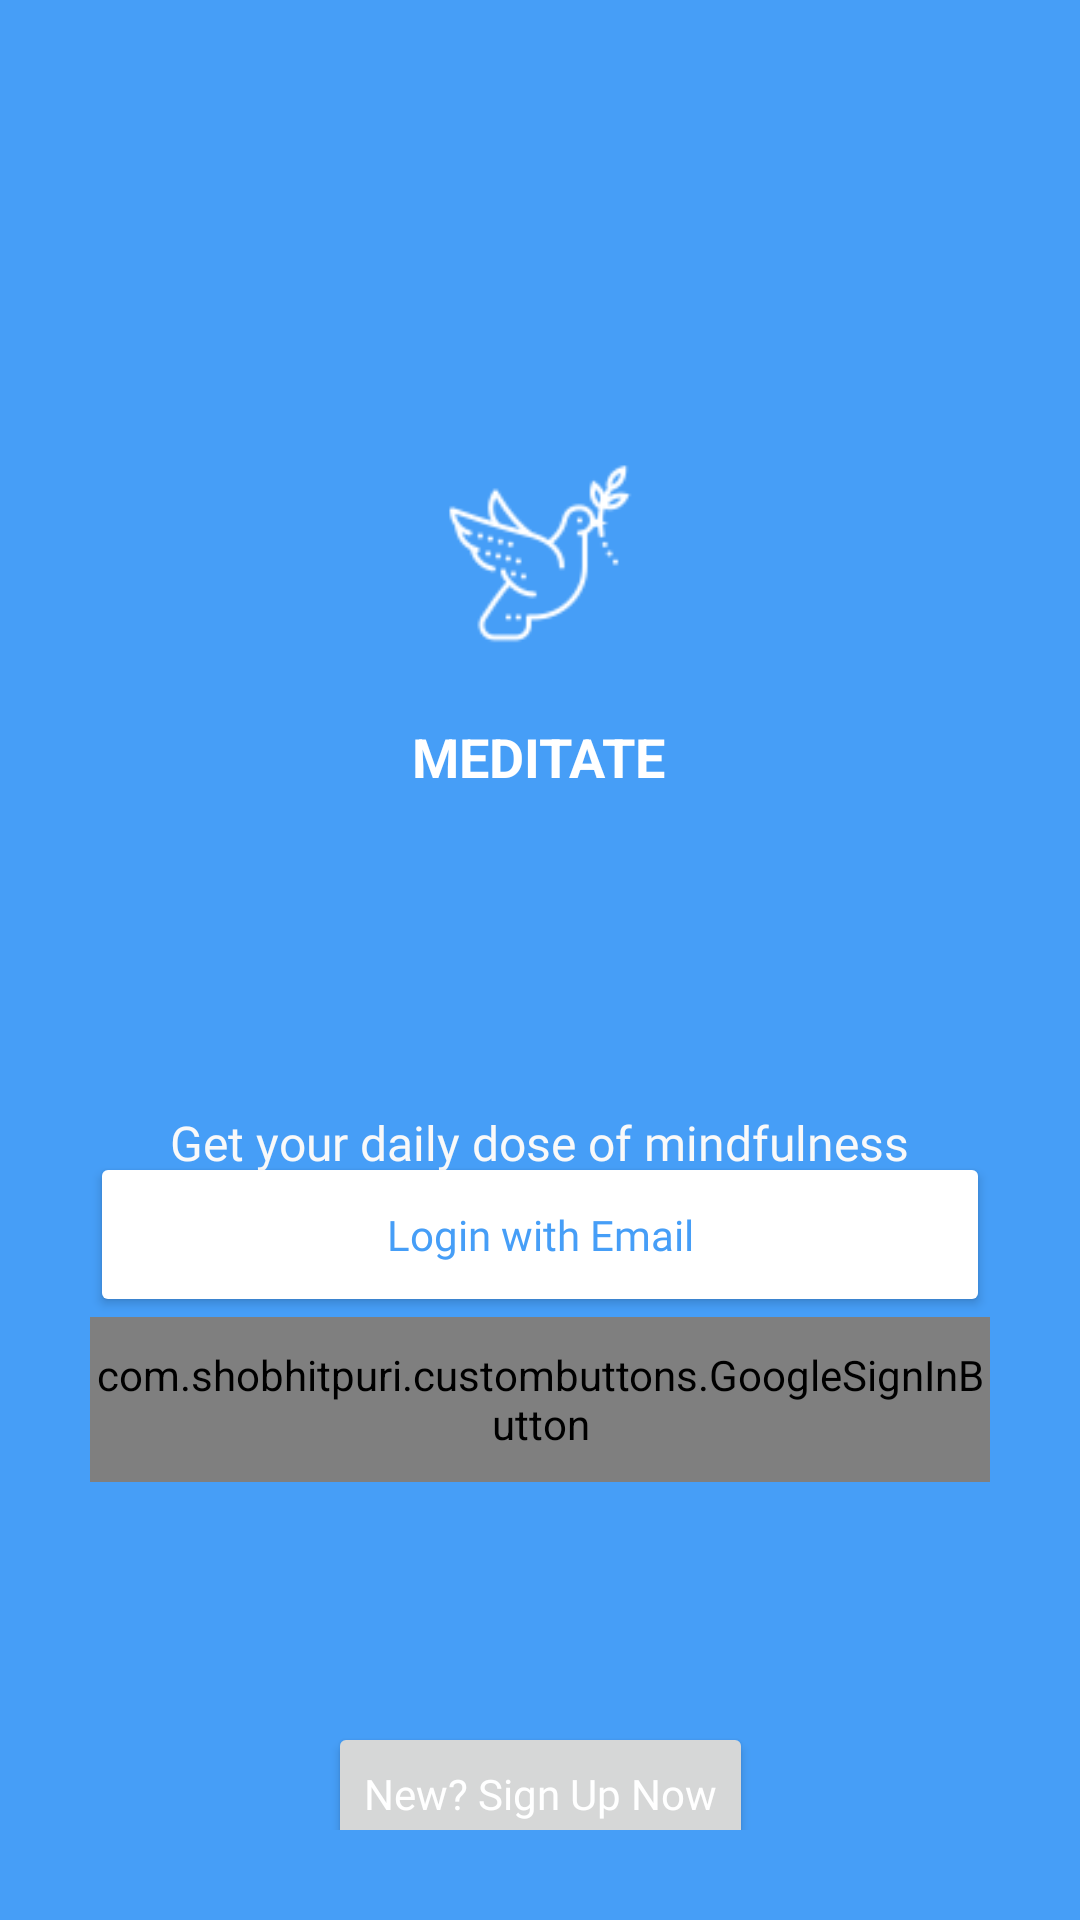

Where icons sit on this 1080×1920 app screen, as detection(x1, y1, x2, y2):
iconapp: detection(449, 465, 630, 642)
